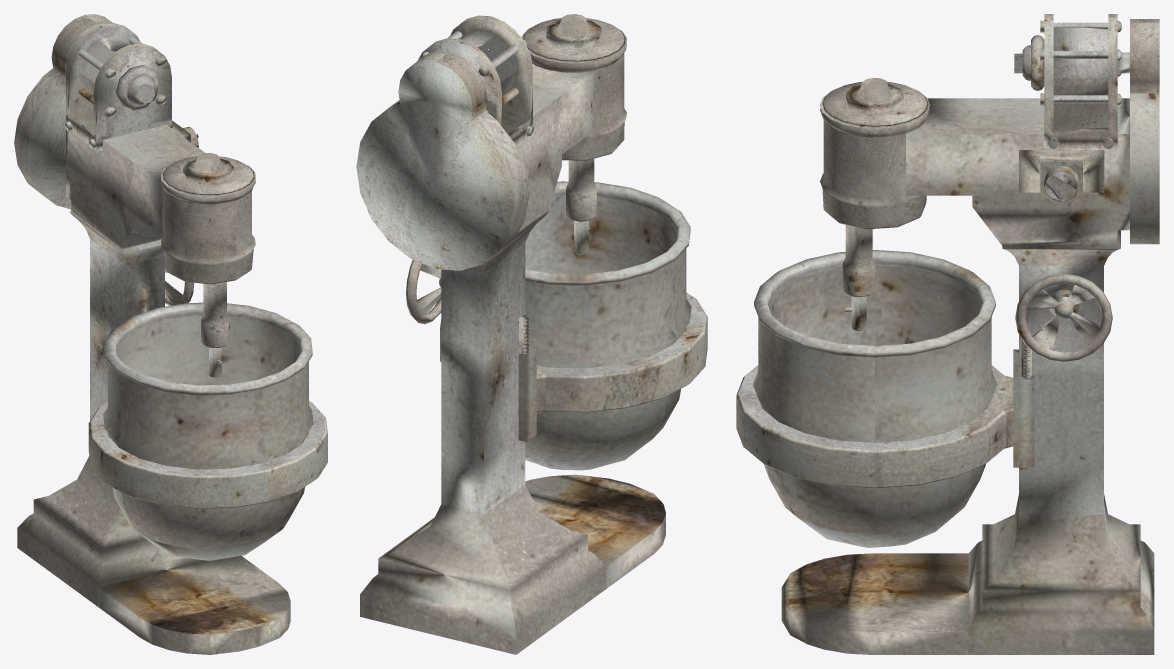
Rendered from BJW_KitchenMixer 1.fbx.
3 views of the same model, side by side, from view 1: azimuth 30°, elevation 25°; view 2: azimuth 150°, elevation 25°; view 3: azimuth 270°, elevation 25° (orthographic). The views are drawn at different scales.
Parts seen in each view (by area): view 1: persp5; view 2: persp5; view 3: persp5.
Boxes of the visible parts, x1,y1,x2,y2 form: persp5: (14,14,327,654); persp5: (356,14,707,654); persp5: (736,14,1159,654).
Bounding box in the file's own units: 65.33 × 155 × 99.78.
